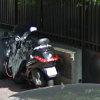Motorcycle: (7, 30, 64, 92)
